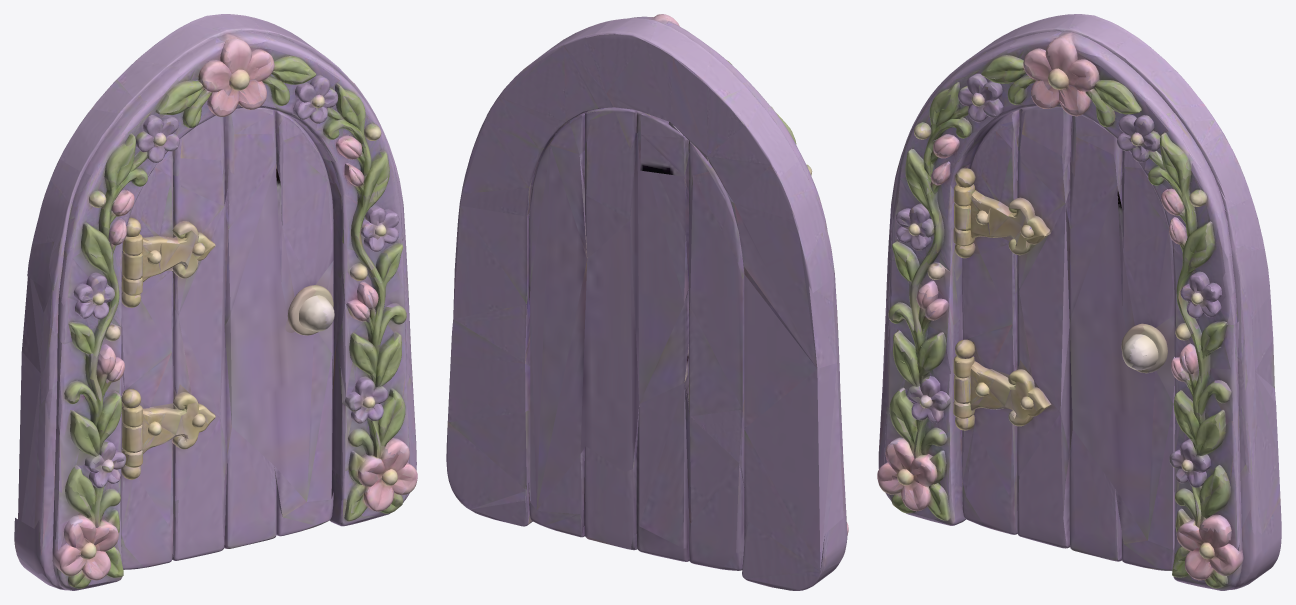
3 renders of one model, left to right at view 1: azimuth 30°, elevation 25°; view 2: azimuth 150°, elevation 25°; view 3: azimuth 330°, elevation 25°, orthographic.
Parts seen in each view (by area): view 1: output_unwrapped; view 2: output_unwrapped; view 3: output_unwrapped.
Part boxes in pixels (x1,y1,x2,y2): output_unwrapped: [14, 14, 417, 590]; output_unwrapped: [446, 14, 848, 590]; output_unwrapped: [877, 14, 1281, 590].
Bounding box in the file's own units: 1.45 × 1.9 × 0.2811.
Materials: 1 (1 with a texture image).
